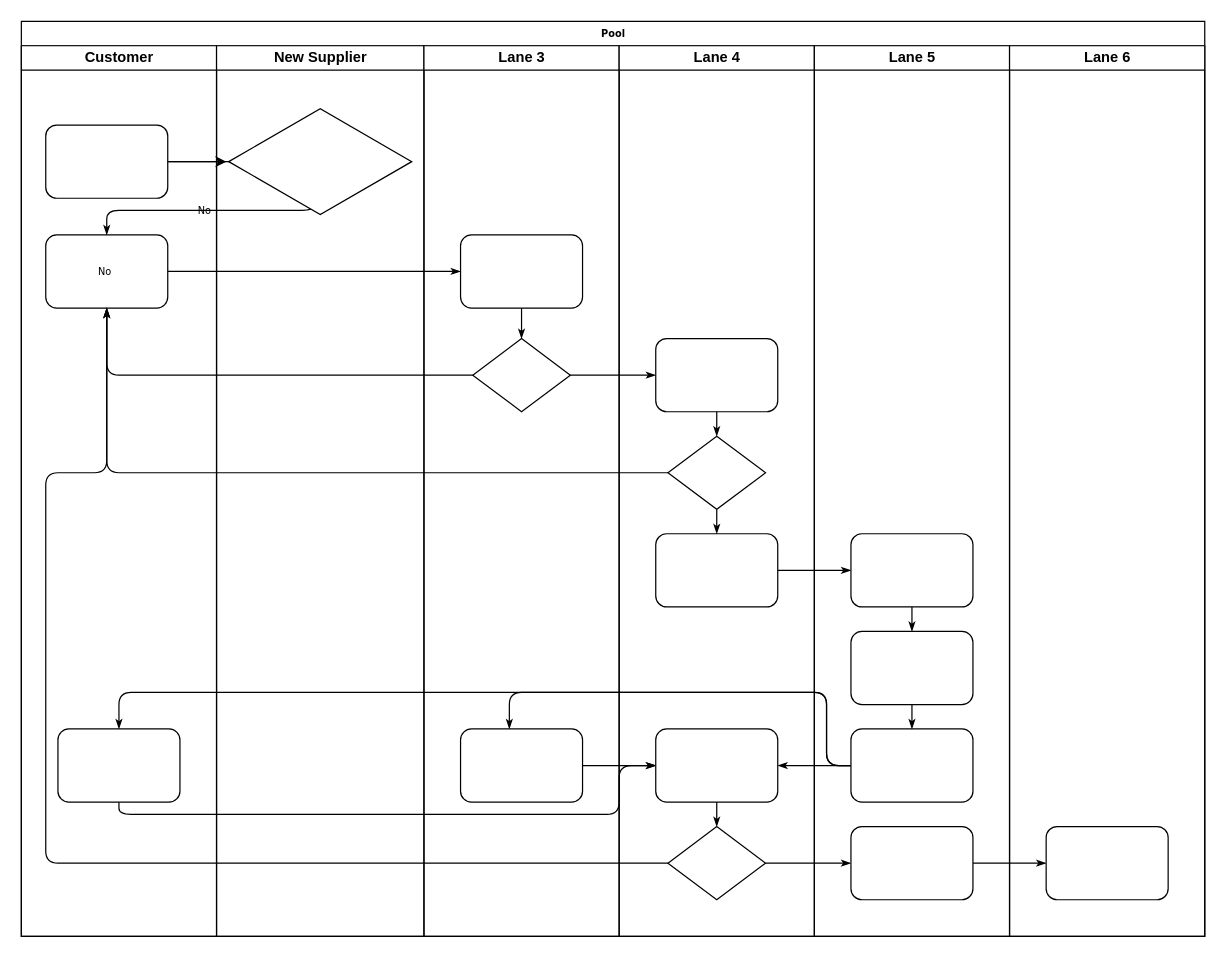
Image size: 1226x958. Some labels were removed from this diagram. The shapes that lost their labels are listed below. From the top down, each one's centre as x and y in pixels, then its label:
[106,161]: Requests Quotation
[320,161]: Wants business?
